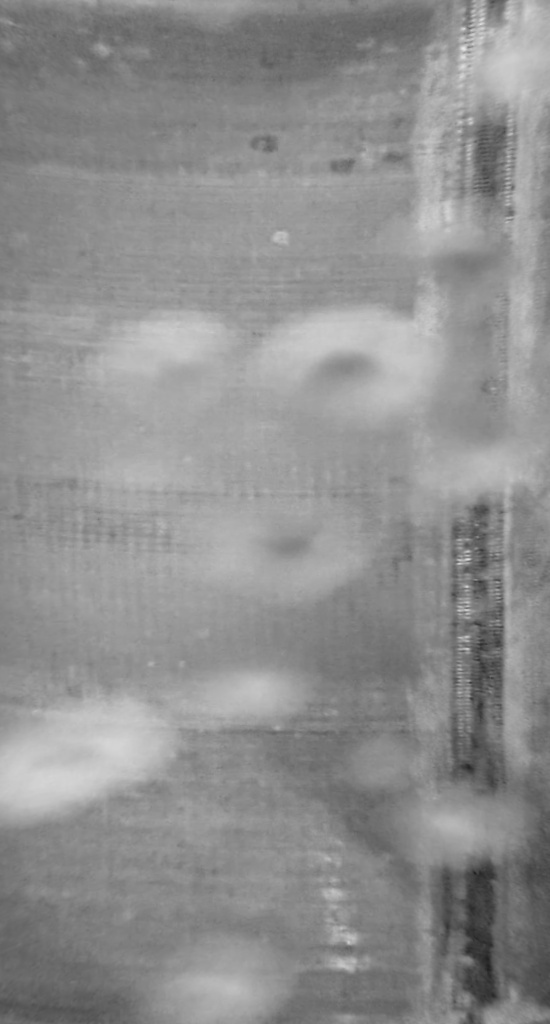splice: (429, 1, 526, 1023)
